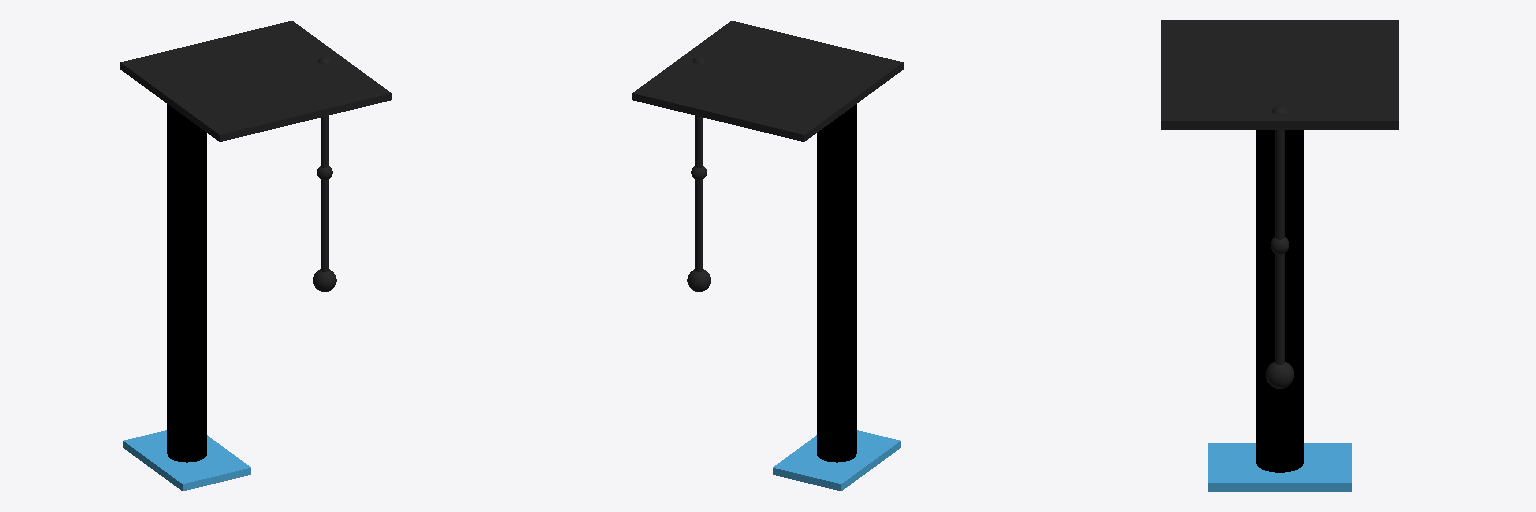
URDF robot description (LISM_Arm):
<?xml version="1.0" ?>
<robot name="LISM_Arm">

    <!-- Basic colors -->
    <material name="black">
        <color rgba="0.0 0.0 0.0 1.0"/>
    </material>
    <material name="greyblack">
        <color rgba="0.1765 0.1765 0.1765 1"/>
    </material>

<!---=============================the base of fixing arm======================-->
    <!--base of fixing arm-->
    <link name="world"/>

    <joint name="worldTolink1" type="fixed">
        <parent link="world"/>
        <child link="base_plate"/>
        <origin xyz="0 0 0"/>
    </joint>

    <link name="base_plate">
        <visual>
            <origin rpy="0.0 0.0 0.0" xyz="0 0 0"/>
            <geometry>
                <box size="0.2 0.3 0.02"/>
            </geometry>
            <material name="anymal_material"/>
        </visual>
        
    </link>

    <joint name="base_fix" type="fixed">
        <axis xyz="1 0 0"/>
        <origin rpy="0 0 0" xyz="0 0 0"/>
        <parent link="base_plate"/>
        <child link="fix_pillar"/>
    </joint>

    <link name="fix_pillar">
        <visual>
            <origin rpy="0.0 0.0 0.0" xyz="0 0 0.5"/>
            <geometry>
                <cylinder length="1" radius="0.05"/>
            </geometry>
            <material name="black"/>
        </visual>
    </link>

    <joint name="fix_plate" type="fixed">
        <axis xyz="1 0 0"/>
        <origin rpy="0 0 0" xyz="0 0 1"/>
        <parent link="fix_pillar"/>
        <child link="arm_plate"/>
    </joint>

    <link name="arm_plate">
        <visual>
            <origin rpy="0.0 0.0 0.0" xyz="0.2 0 0"/>
            <geometry>
                <box size="0.5 0.5 0.02"/>
            </geometry>
            <material name="greyblack"/>
        </visual>
    </link>

    <joint name="plate_arm_r" type="fixed">
        <axis xyz="1 0 0"/>
        <origin rpy="0 0 0" xyz="0.4 0.0 0.0"/>
        <parent link="arm_plate"/>
        <child link="fixed_base"/>
        <!-- <limit effort="18" lower="-6.28" upper="6.28" velocity="40"/> -->
        <!-- <dynamics damping="0.01" rotor_inertia="0.003708"/> -->
    </joint>

<!---============================= Right Arm ======================-->
    <!--abad link-->
    <link name="fixed_base">
        <visual>
            <origin rpy="0 0.0 0.0" xyz="0 0 0"/>
            <geometry>
                <sphere radius="0.02"/>
            </geometry>
            <material name="greyblack"/>
        </visual>
    </link>

    <joint name="base_link1" type="revolute">
        <axis xyz="0 1 0"/>
        <origin rpy="0 0 0" xyz="0 0 0"/>
        <parent link="fixed_base"/>
        <child link="link1"/>
        <!-- <limit effort="18" lower="-1.57" upper="0.0"/> -->
        <!-- <dynamics damping="0.01" rotor_inertia="0.003708"/> -->
    </joint>

    <link name="link1">
        <visual>
            <origin rpy="0 0.0 0" xyz="0.0 0.0 -0.15"/>
            <geometry>
                <cylinder length="0.3" radius="0.01"/>
            </geometry>
            <material name="greyblack"/>
        </visual>
        <inertial>
            <mass value="0.0001"/>
            <origin rpy="0.0 0.0 0.0" xyz="0.0 0.0 0"/>
            <!-- <inertia ixx="0.003" ixy="0.0" ixz="0.0"
                     iyy="0.0" iyz="0.0" izz="0.003"/> -->
            <inertia ixx="0.0" ixy="0.0" ixz="0.0"
                     iyy="0.0" iyz="0.0" izz="0.0"/>
        </inertial>
    </link>

    <joint name="link1_joint1" type="fixed">
        <axis xyz="0 1 0"/>
        <origin rpy="0 0 0" xyz="0 0 -0.3"/>
        <parent link="link1"/>
        <child link="joint1"/>
    </joint>

    <link name="joint1">
        <visual>
            <origin rpy="0 0.0 0" xyz="0.0 0.0 0"/>
            <geometry>
                <sphere radius="0.02"/>
            </geometry>
            <material name="greyblack"/>
        </visual>
    </link>

    <joint name="joint1_link2" type="revolute">
        <axis xyz="0 1 0"/>
        <origin rpy="0 0 0" xyz="0.0 0.0 0"/>
        <parent link="joint1"/>
        <child link="link2"/>
        <!-- <limit effort="27" lower="0" upper="3.14" velocity="27"/> -->
        <!-- <dynamics damping="0.01" rotor_inertia="0.008966"/> -->
    </joint>

    <link name="link2">
        <visual>
            <origin rpy="0.0 0.0 0" xyz="0 0 -0.15"/>
            <geometry>
                <cylinder length="0.3" radius="0.01"/>
            </geometry>
            <material name="greyblack"/>
        </visual>
        <inertial>
            <mass value="0.0001"/>
            <origin rpy="0.0 0.0 0.0" xyz="0 0.032 0"/>
            <inertia ixx="0.0" ixy="0.0" ixz="0.0"
                     iyy="0.0" iyz="0.0" izz="0.0"/>
        </inertial>
    </link>

    <joint name="link2_ball" type="fixed">
        <parent link="link2"/>
        <child link="ball"/>
        <origin xyz="0 0 -0.3"/>
        <dynamics damping="0.0" friction="0.0"/>
    </joint>

    <link name="ball">
        <visual>
            <origin rpy="0.0 0.0 0" xyz="0 0 0"/>
            <geometry>
                <sphere radius="0.03"/>
            </geometry>
            <material name="greyblack"/>
        </visual>
        <inertial>
            <mass value="0.0004"/>
            <inertia ixx="0.000144" ixy="0" ixz="0" iyy="0.000144" iyz="0" izz="0.000144"/>
        </inertial>
    </link>

    <!-- <joint name="pole_ball" type="prismatic">
        <parent link="ball"/>
        <child link="pole_fixed"/>
        <origin xyz="0 0 0"/>
    </joint>

    <link name="pole_fixed">
        <visual>
            <origin rpy="0.0 0.0 0.0" xyz="0 0 -0.5"/>
            <geometry>
                <cylinder length="1" radius="0.02"/>
            </geometry>
            <material name="black"/>
        </visual>
    </link> -->

</robot>

--- Render facts (derived) ---
The picture shows the robot from 3 angles, left to right: view 1: azimuth 30°, elevation 25°; view 2: azimuth 150°, elevation 25°; view 3: azimuth 270°, elevation 25°; orthographic projection.
Robot: LISM_Arm — 9 links, 8 joints (2 revolute, 6 fixed); root link world; default pose: every joint at zero.
Visible links, largest first — view 1: arm_plate, fix_pillar, base_plate, link2; view 2: arm_plate, fix_pillar, base_plate, link2; view 3: arm_plate, fix_pillar, base_plate, link2, link1, ball.
Boxes of the visible links, <box> form: arm_plate: <box>120,21,391,141</box>; fix_pillar: <box>167,104,206,462</box>; base_plate: <box>123,430,250,490</box>; link2: <box>321,179,328,271</box>; arm_plate: <box>632,21,903,141</box>; fix_pillar: <box>817,104,856,462</box>; base_plate: <box>773,430,900,490</box>; link2: <box>695,179,702,271</box>; arm_plate: <box>1161,20,1398,129</box>; fix_pillar: <box>1256,130,1303,472</box>; base_plate: <box>1208,443,1351,491</box>; link2: <box>1275,254,1284,364</box>; link1: <box>1275,130,1284,239</box>; ball: <box>1266,362,1293,388</box>.
Bounding box of the posed robot: 0.55 × 0.5 × 1.03 m (x, y, z).
Geometry: primitives only (box / cylinder / sphere), no mesh files.